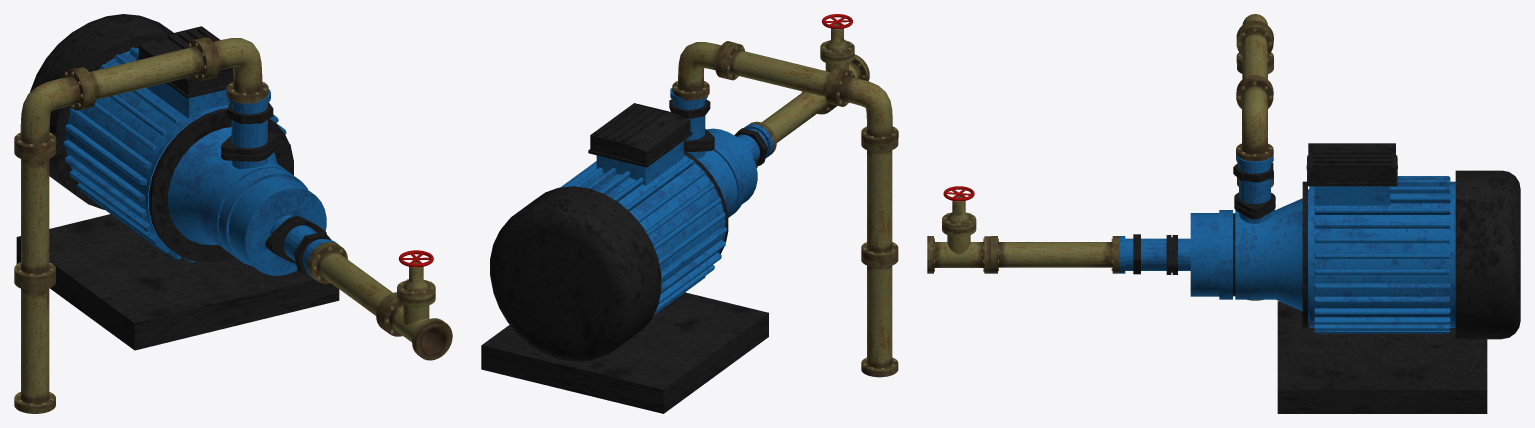
The model's file is motor.glb.
The picture shows the model from 3 angles, left to right: view 1: azimuth 30°, elevation 25°; view 2: azimuth 150°, elevation 25°; view 3: azimuth 270°, elevation 25°; orthographic projection. The views are drawn at different scales.
Parts seen in each view (by area): view 1: motor.001, pipe.011, pipe.012, pipe.010, openerpipe, curvepipe.004, pipe, curvepipe.003, opener; view 2: motor.001, pipe.012, pipe.011, pipe.010, curvepipe.004, curvepipe.003, pipe, openerpipe; view 3: motor.001, pipe, openerpipe, curvepipe.003, pipe.010.
Boxes of the visible parts, left/top/right/bottom form: motor.001: left=16, top=14, right=339, bottom=350; pipe.011: left=14, top=147, right=55, bottom=284; pipe.012: left=14, top=276, right=55, bottom=413; pipe.010: left=78, top=38, right=213, bottom=109; openerpipe: left=380, top=258, right=452, bottom=360; curvepipe.004: left=14, top=68, right=90, bottom=154; pipe: left=307, top=242, right=396, bottom=330; curvepipe.003: left=200, top=37, right=268, bottom=103; opener: left=398, top=250, right=433, bottom=267; motor.001: left=481, top=87, right=773, bottom=413; pipe.012: left=861, top=255, right=898, bottom=377; pipe.011: left=861, top=139, right=898, bottom=261; pipe.010: left=721, top=42, right=842, bottom=105; curvepipe.004: left=831, top=69, right=898, bottom=145; curvepipe.003: left=672, top=41, right=733, bottom=100; pipe: left=748, top=91, right=835, bottom=155; openerpipe: left=820, top=21, right=869, bottom=107; motor.001: left=1119, top=143, right=1520, bottom=413; pipe: left=991, top=236, right=1119, bottom=273; openerpipe: left=927, top=193, right=990, bottom=273; curvepipe.003: left=1236, top=77, right=1273, bottom=161; pipe.010: left=1236, top=24, right=1273, bottom=94.
Bounding box in the file's own units: 1.72 × 1.6 × 2.98.
8 materials, 8 textured.
